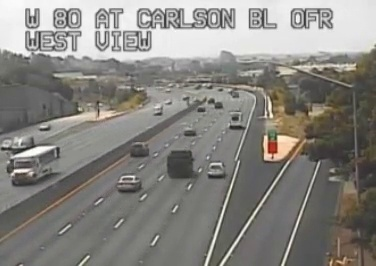bus: (228, 112, 242, 129)
car: (116, 175, 141, 193), (207, 163, 225, 178), (130, 142, 148, 157)
small-truck: (167, 151, 192, 178)
